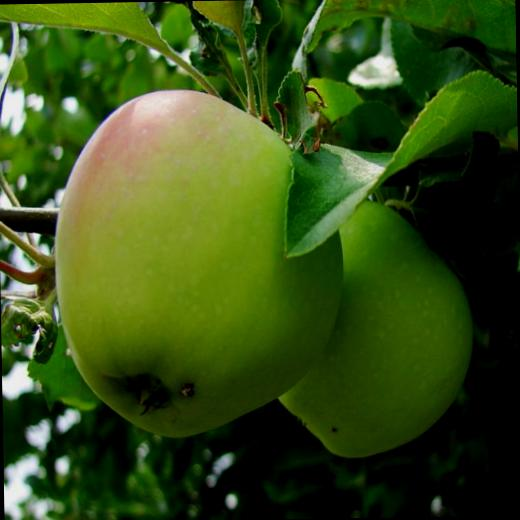Apple: (52, 86, 348, 440), (274, 197, 474, 460)
